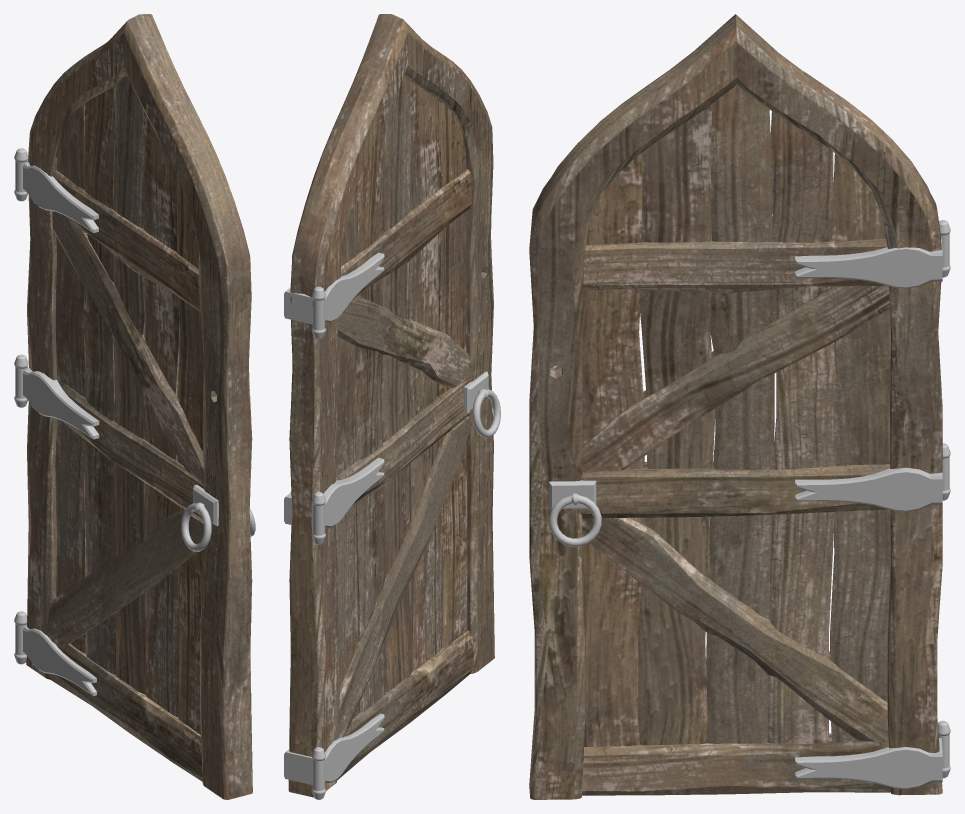
Rendered from SM_Door_01.fbx.
The picture shows the model from 3 angles, left to right: view 1: azimuth 30°, elevation 25°; view 2: azimuth 150°, elevation 25°; view 3: azimuth 270°, elevation 25°; orthographic projection. The views are drawn at different scales.
Parts seen in each view (by area): view 1: SM_Door_01_LOD0; view 2: SM_Door_01_LOD0; view 3: SM_Door_01_LOD0.
Part boxes in pixels (left/top/right/bottom): SM_Door_01_LOD0: left=14, top=14, right=255, bottom=799; SM_Door_01_LOD0: left=284, top=14, right=500, bottom=799; SM_Door_01_LOD0: left=529, top=14, right=950, bottom=799.
Size of the model in its own units: 21.82 by 118 by 239.
